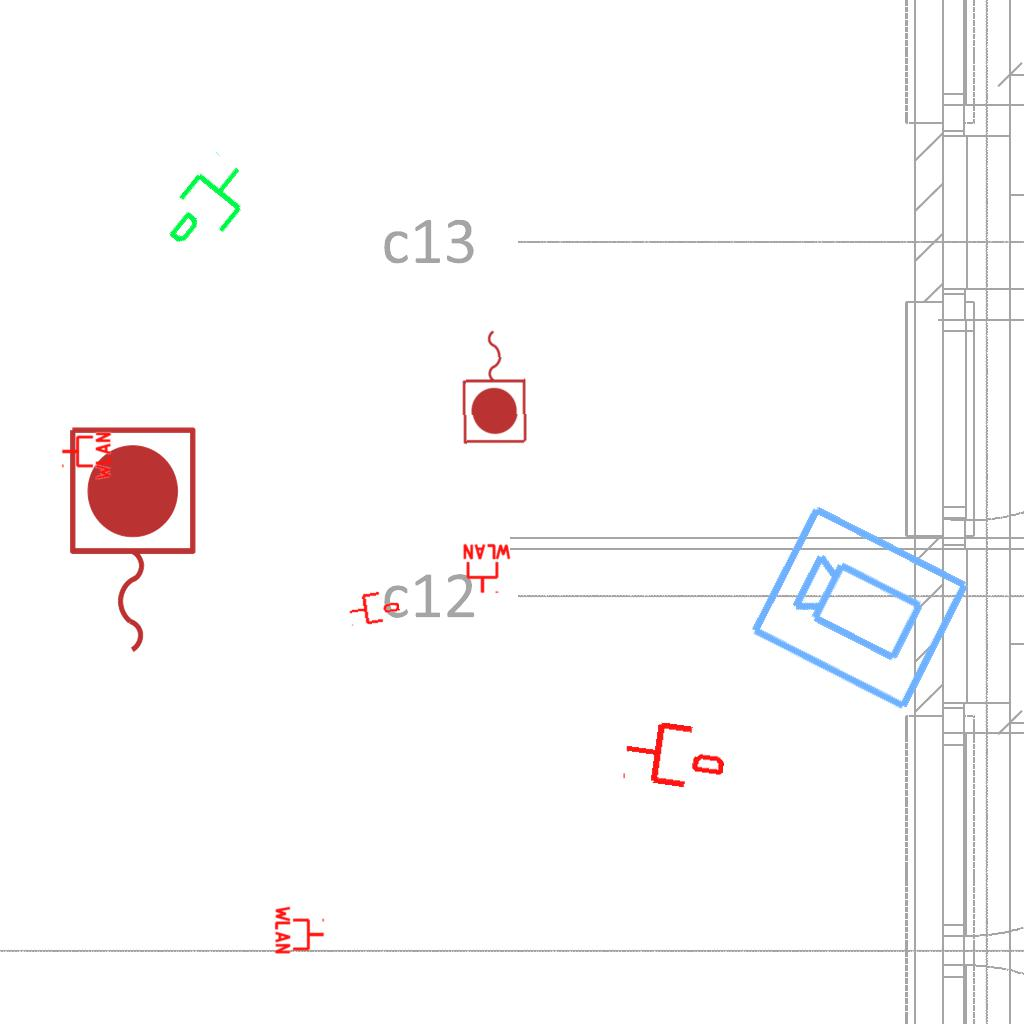Datenanschluss_einfach: (151, 146, 268, 268), (620, 713, 729, 797), (346, 587, 402, 629)
KFO_Kamera_mit_Festobjektiv: (744, 497, 978, 717)
WLAN: (274, 904, 326, 956), (461, 543, 513, 595), (60, 430, 112, 482)
Zugtaster: (59, 419, 203, 663), (457, 324, 533, 448)
